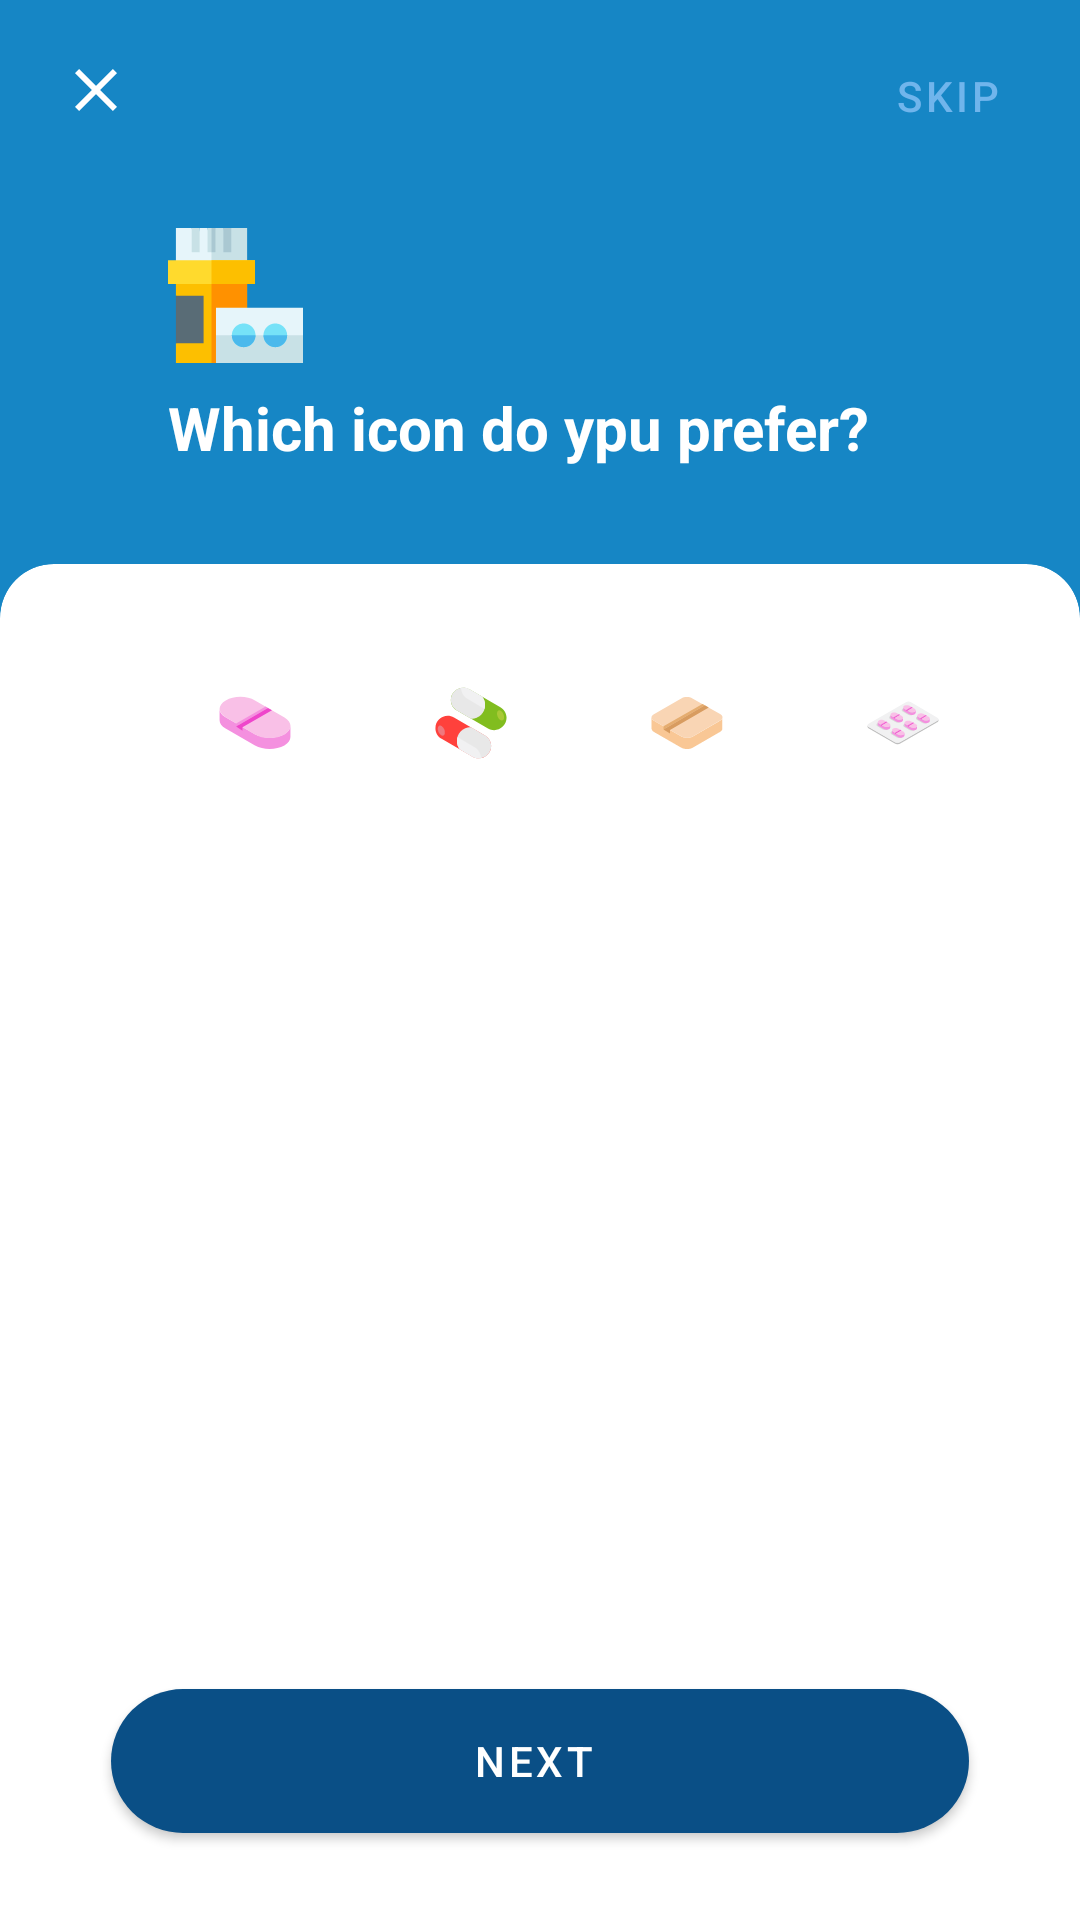

Named icons in this screenshot (1080 x 1920) and their bounding boxes, (x1, y1, x2, y2):
Close: (75, 69, 117, 111)
